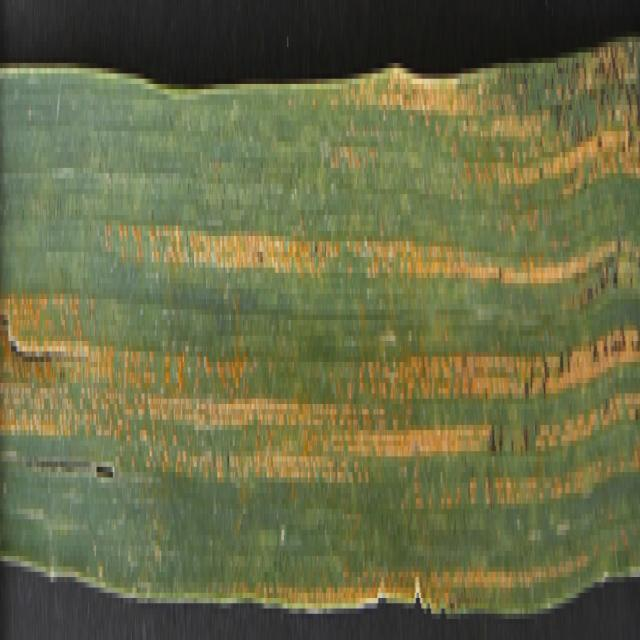leaf rust: (1, 63, 640, 572)
